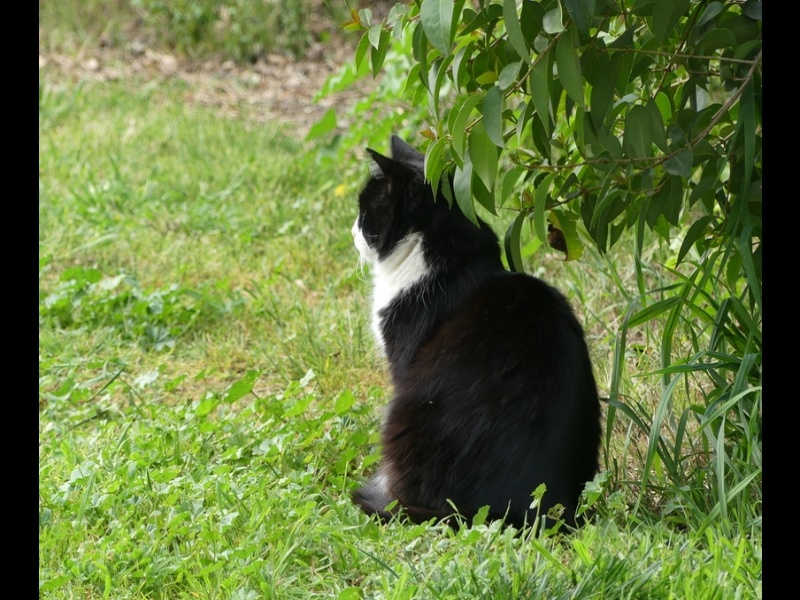cat: (336, 132, 614, 540)
